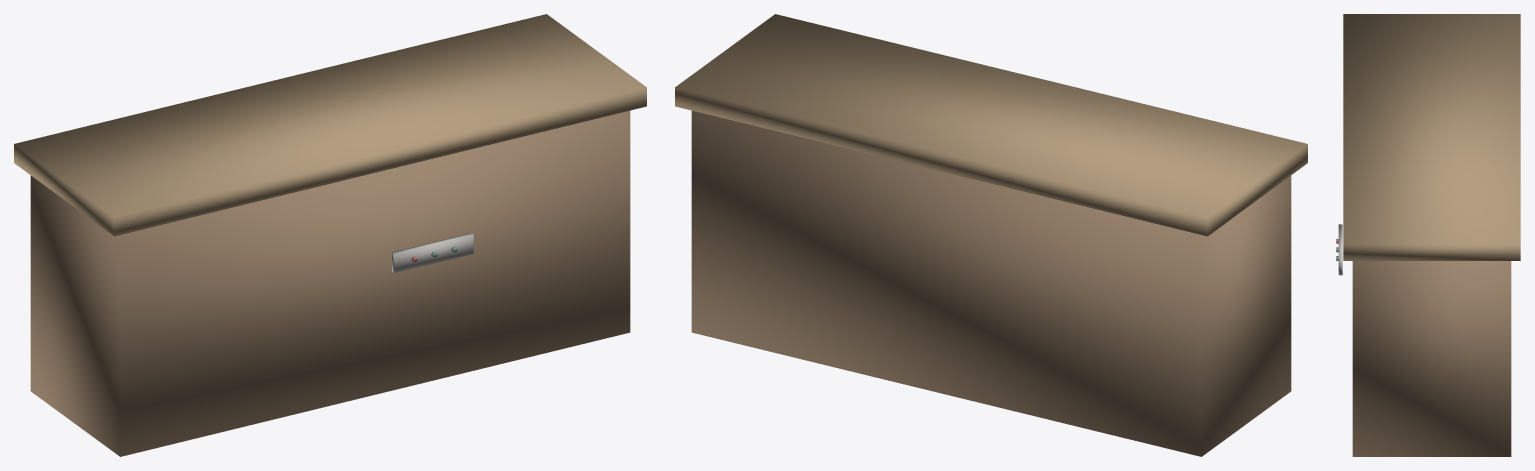
Rendered from hotel_reception_counter__wide.glb.
3 renders of one model, left to right at view 1: azimuth 30°, elevation 25°; view 2: azimuth 150°, elevation 25°; view 3: azimuth 270°, elevation 25°, orthographic. The views are drawn at different scales.
Parts seen in each view (by area): view 1: world; view 2: world; view 3: world.
Part boxes in pixels (<box>): world: <box>14,14,646,456</box>; world: <box>675,14,1307,456</box>; world: <box>1336,14,1520,456</box>.
Size of the model in its own units: 2.33 by 1.03 by 0.791.
